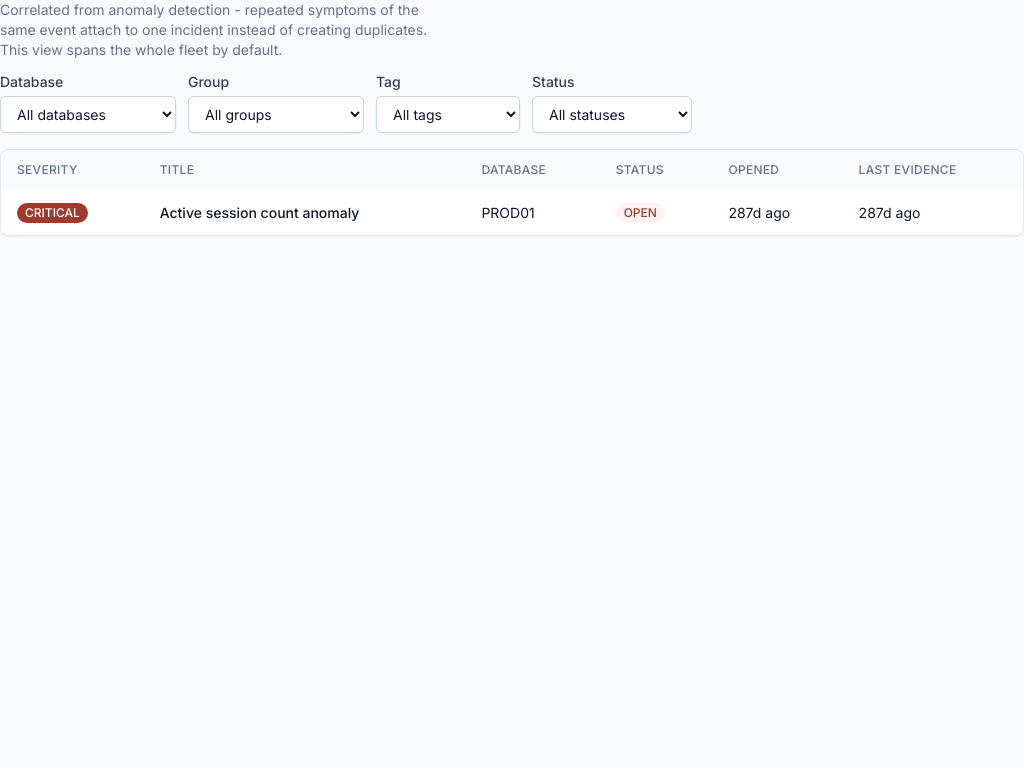
Test: IncidentsPage › hides manage actions in the drawer for a user without incident:manage
Click the text "Active session count anomaly": (260, 212) [160,204,359,220]
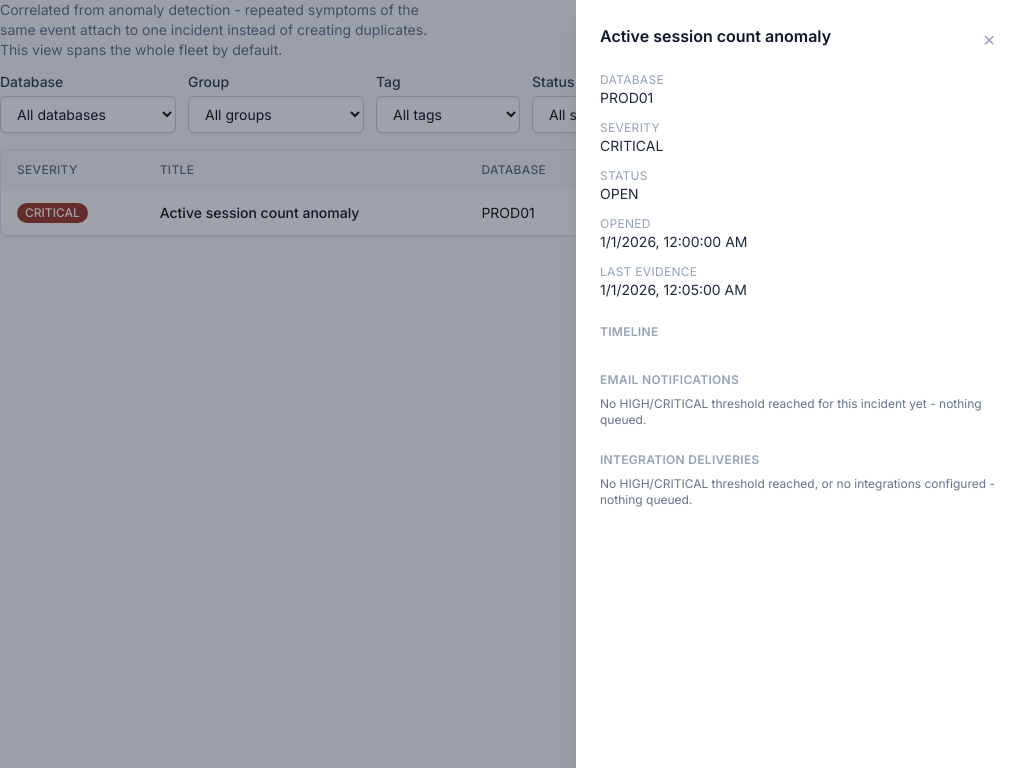
Expected: the heading "Timeline" is shown, [600,324,658,339]
